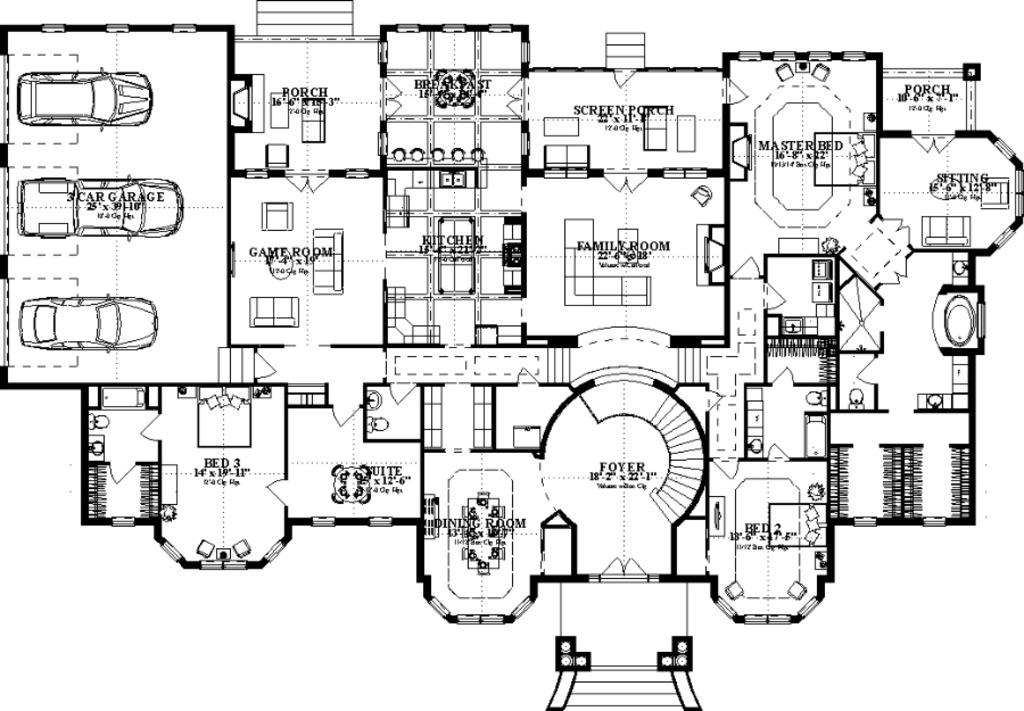bed: (195, 387, 254, 447), (765, 502, 831, 548)
door: (599, 169, 650, 197), (601, 555, 649, 580), (729, 255, 765, 285), (762, 279, 789, 314), (136, 411, 162, 444), (329, 402, 363, 426), (856, 355, 880, 384), (105, 459, 136, 481)
kitchen_bar: (430, 216, 480, 299)
large_sink: (836, 382, 869, 413), (798, 381, 832, 410)
large_sofa: (558, 217, 650, 309), (307, 225, 345, 295), (915, 214, 982, 249), (246, 294, 303, 331), (298, 98, 330, 148), (540, 143, 593, 172), (634, 110, 667, 154)
small_sofa: (259, 197, 296, 233)
stairs: (650, 386, 706, 524), (541, 663, 701, 711), (256, 4, 360, 40), (214, 344, 262, 385), (601, 31, 650, 69)
tub: (931, 288, 983, 349), (98, 385, 146, 417), (801, 412, 830, 461)
windows: (447, 607, 510, 630)
